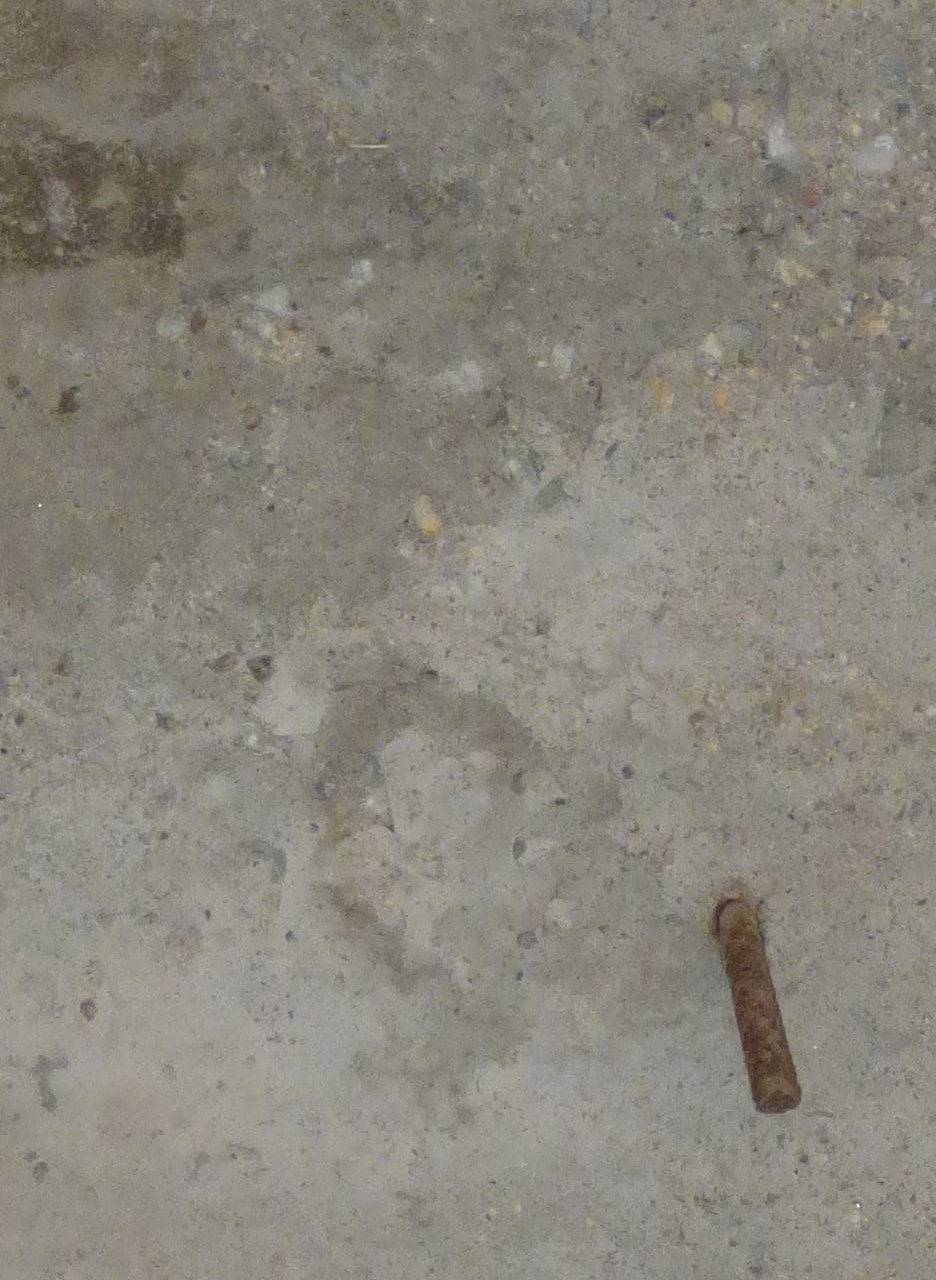Exposed reinforcement: (717, 900, 802, 1115)
